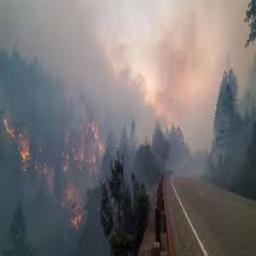Low smoke: (0, 0, 138, 109), (155, 10, 238, 164)
Medium fire: (3, 113, 106, 229)
